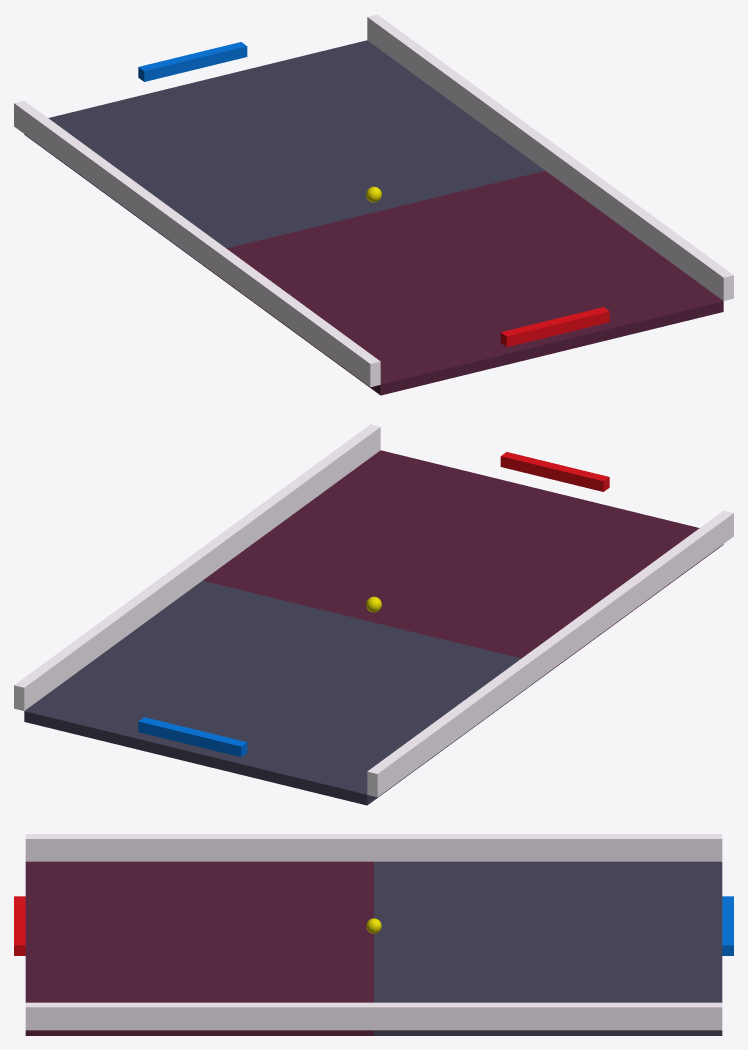
Rendered from pong2p.glb.
3 renders of one model, top to bottom at view 1: azimuth 30°, elevation 25°; view 2: azimuth 150°, elevation 25°; view 3: azimuth 270°, elevation 25°, orthographic. The views are drawn at different scales.
Parts seen in each view (by area): view 1: court2, court1, wall1, wall2, paddle1, paddle2; view 2: court1, court2, wall1, wall2, paddle2, paddle1; view 3: court2, court1, wall2, wall1, paddle2, paddle1.
Boxes of the visible parts, <box> form: court2: <box>203,170,723,395</box>; court1: <box>24,40,544,264</box>; wall1: <box>14,100,380,387</box>; wall2: <box>367,14,733,300</box>; paddle1: <box>500,307,609,347</box>; paddle2: <box>138,42,247,81</box>; court1: <box>24,580,544,805</box>; court2: <box>203,450,723,674</box>; wall1: <box>367,510,733,797</box>; wall2: <box>14,424,380,710</box>; paddle2: <box>138,717,247,757</box>; paddle1: <box>500,452,609,491</box>; court2: <box>25,861,373,1035</box>; court1: <box>374,861,722,1035</box>; wall2: <box>25,1002,722,1030</box>; wall1: <box>25,834,722,861</box>; paddle2: <box>722,896,733,955</box>; paddle1: <box>14,896,25,955</box>.
Bounding box in the file's own units: 10.6 × 1.36 × 18.6.
